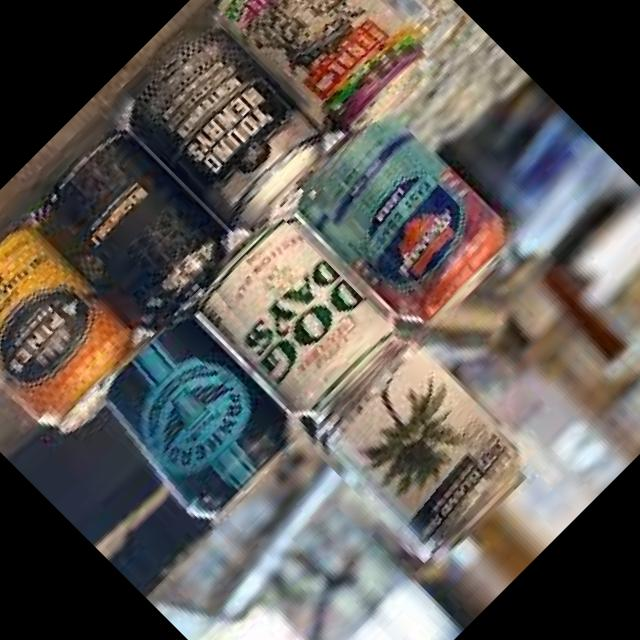Cans: (298, 338, 523, 562), (18, 118, 236, 336), (105, 7, 319, 221), (292, 116, 498, 322), (75, 323, 272, 520), (198, 216, 388, 406), (0, 206, 117, 434), (211, 0, 419, 125)
